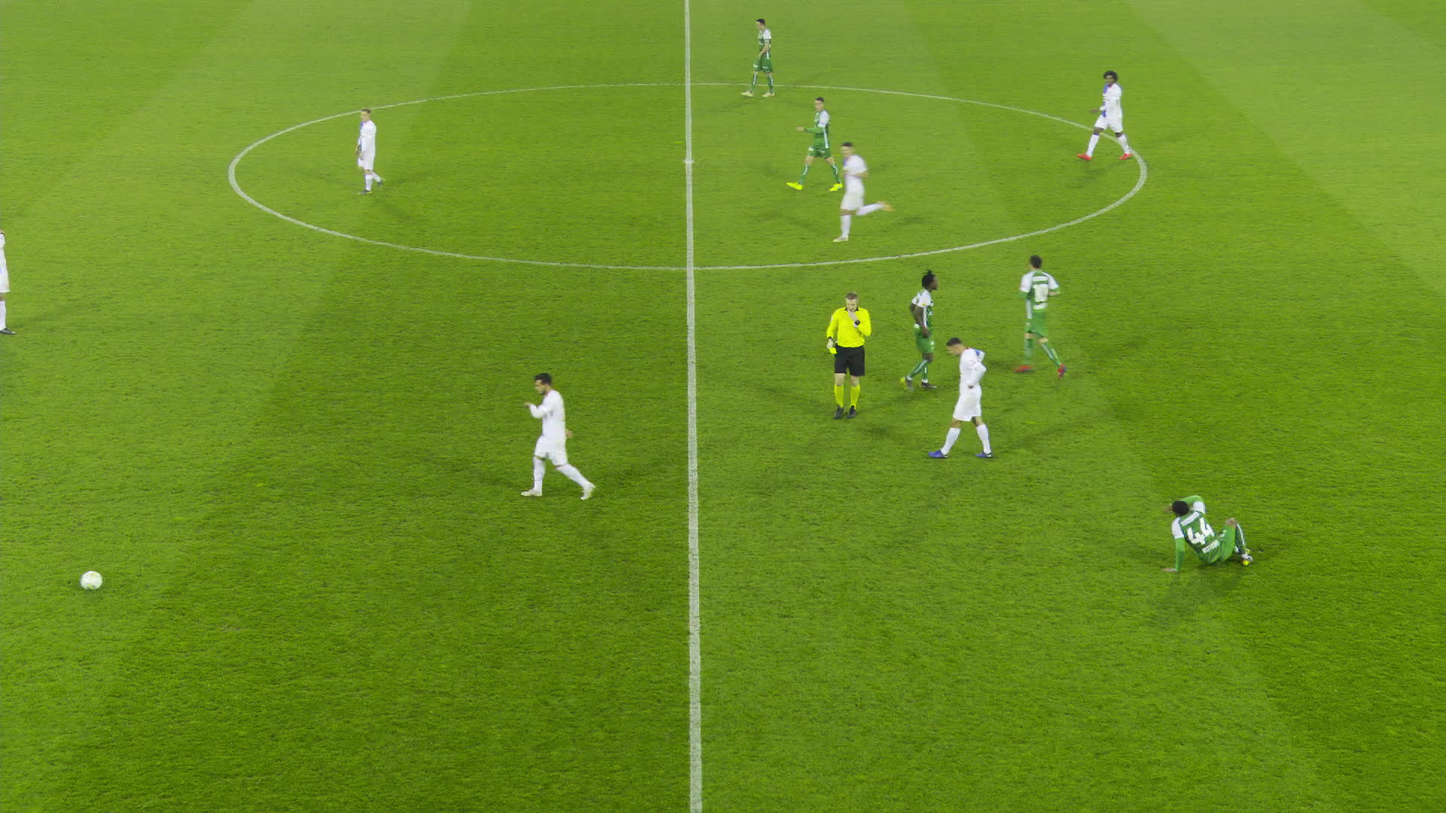ball: (81, 568, 105, 591)
player: (514, 367, 594, 503), (1161, 492, 1257, 574), (938, 335, 994, 462), (834, 138, 892, 244), (1017, 259, 1066, 380), (903, 272, 950, 392), (1084, 68, 1127, 161), (350, 109, 391, 196), (802, 94, 837, 192), (751, 18, 779, 99), (0, 224, 14, 337)
referee: (823, 293, 876, 422)
